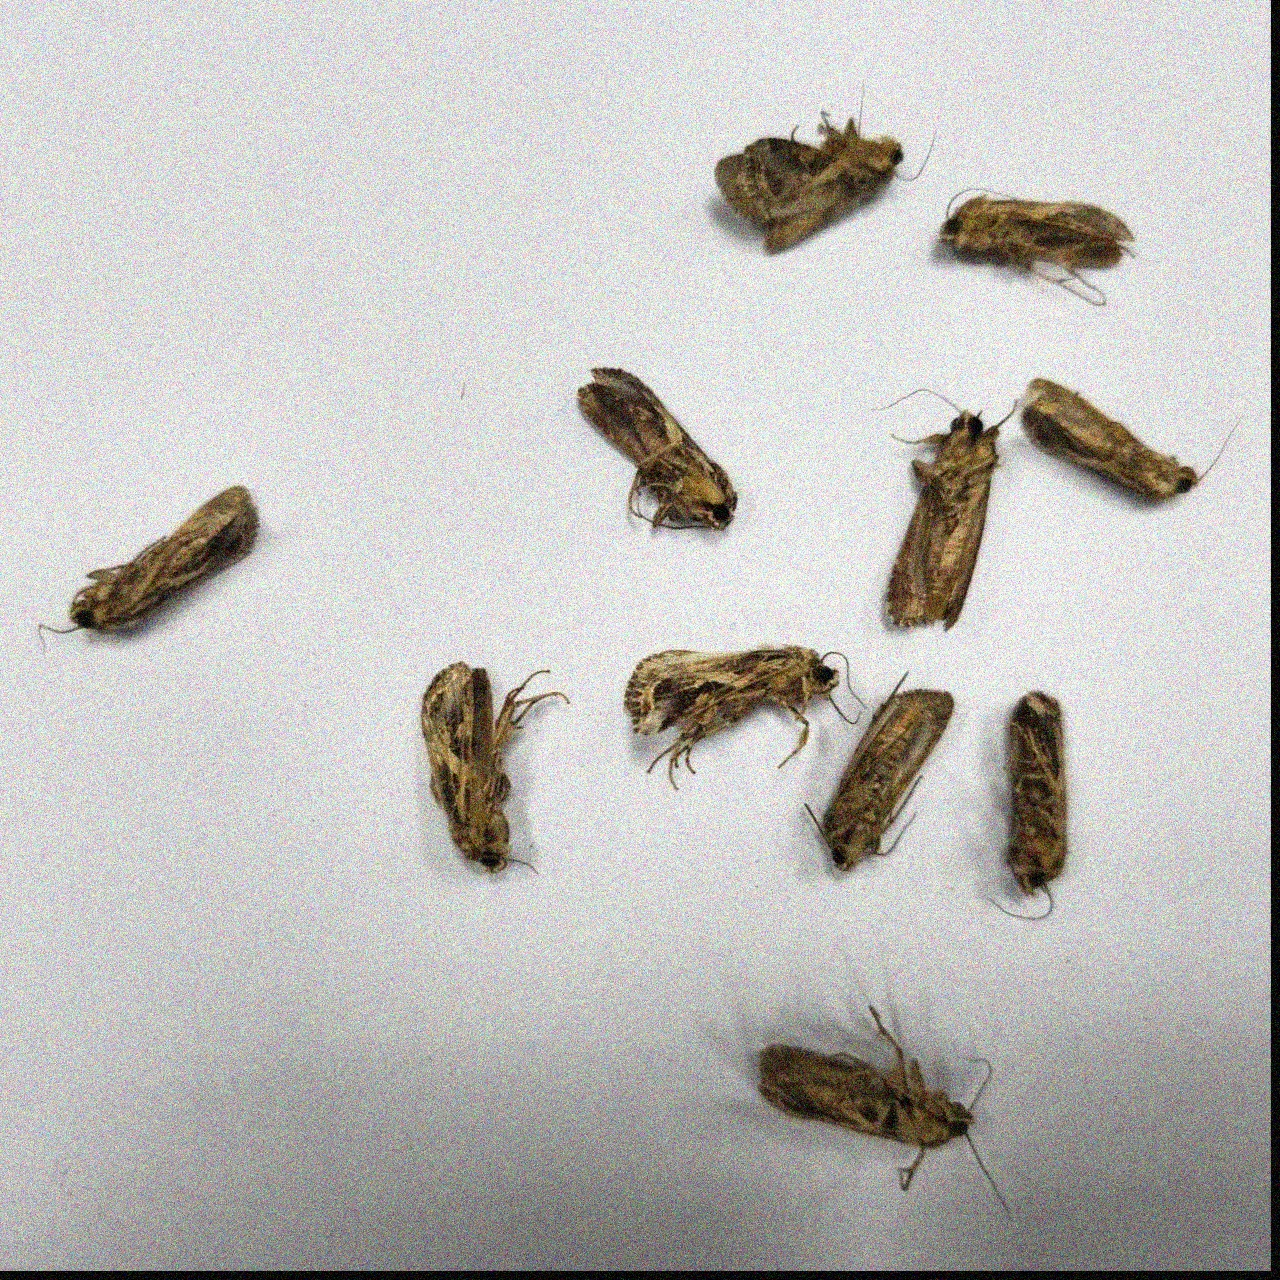Spodoptera litura: (758, 1005, 1012, 1216), (713, 79, 937, 257), (38, 483, 260, 655), (870, 387, 1017, 631), (622, 644, 865, 789), (418, 658, 568, 874), (804, 667, 953, 872), (1020, 376, 1241, 503), (578, 366, 737, 533), (937, 188, 1135, 307), (986, 689, 1065, 920)
